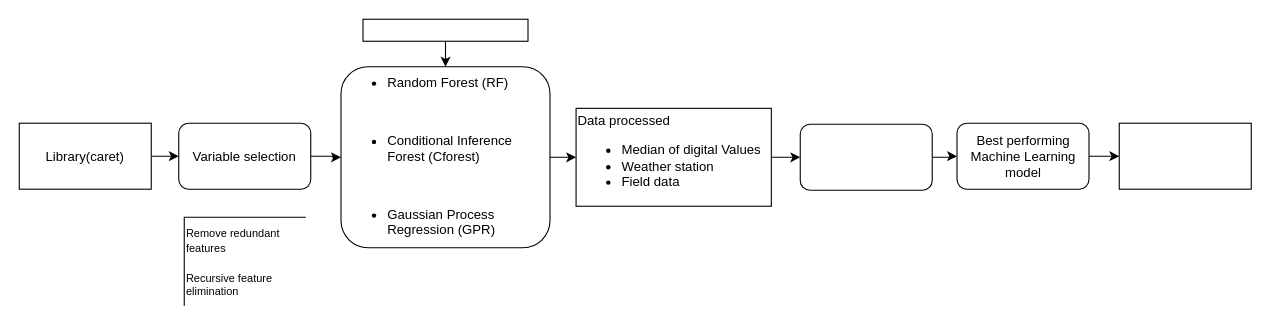
Image size: 1271x325. Some labels were removed from this diagram. The shapes that lost their labels are listed below. From the top down, each one's centre as x and y in pixels, then its label:
At point 445,29: "Machine Learning models".
At point 865,156: "Predicted Values".
At point 1184,155: "Variable importance analysis".
